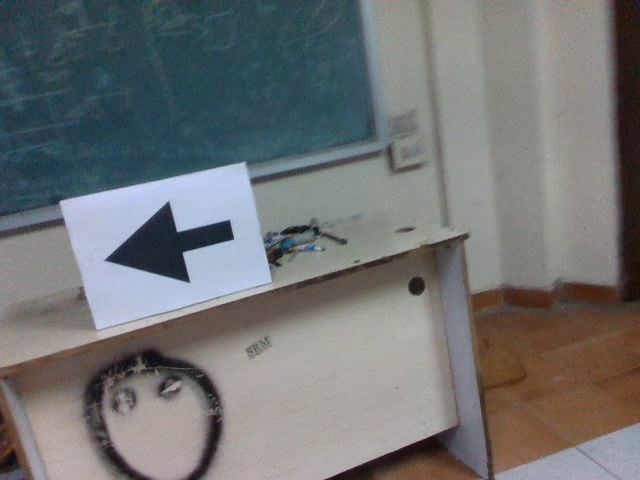Left: (96, 199, 238, 285)
